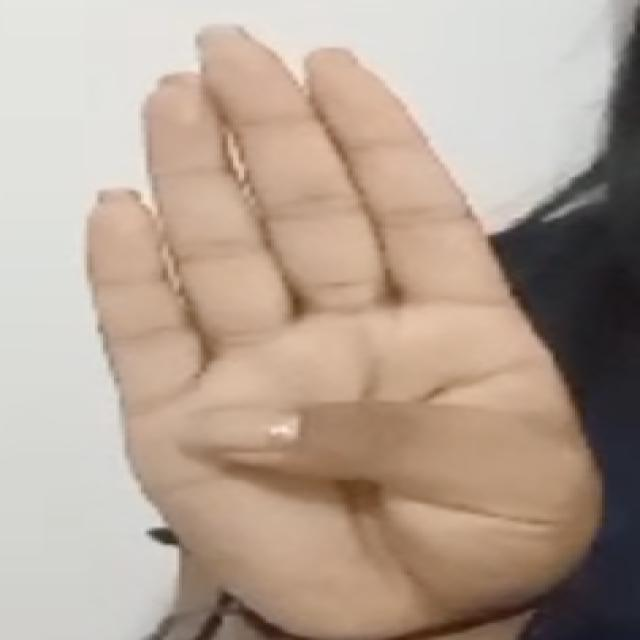B: (78, 15, 604, 640)
